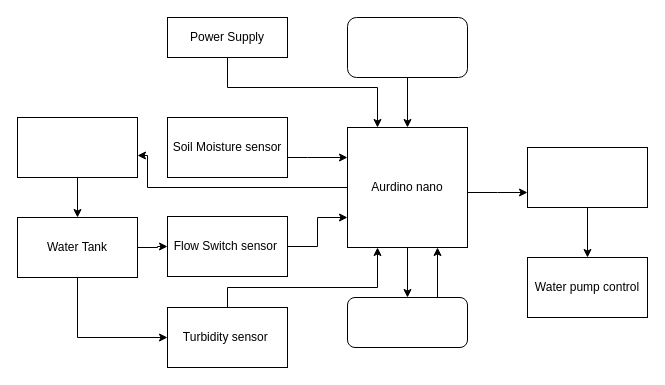
The diagram is 665 pixels wide and 385 high, and some of its shapes have lost their labels. Each missing label, with the centre of its shape:
"GSM Module" belongs at (x=407, y=322).
"Relay Drive" belongs at (x=587, y=177).
"Water Motor" belongs at (x=77, y=147).
"Wifi Module" belongs at (x=407, y=47).
